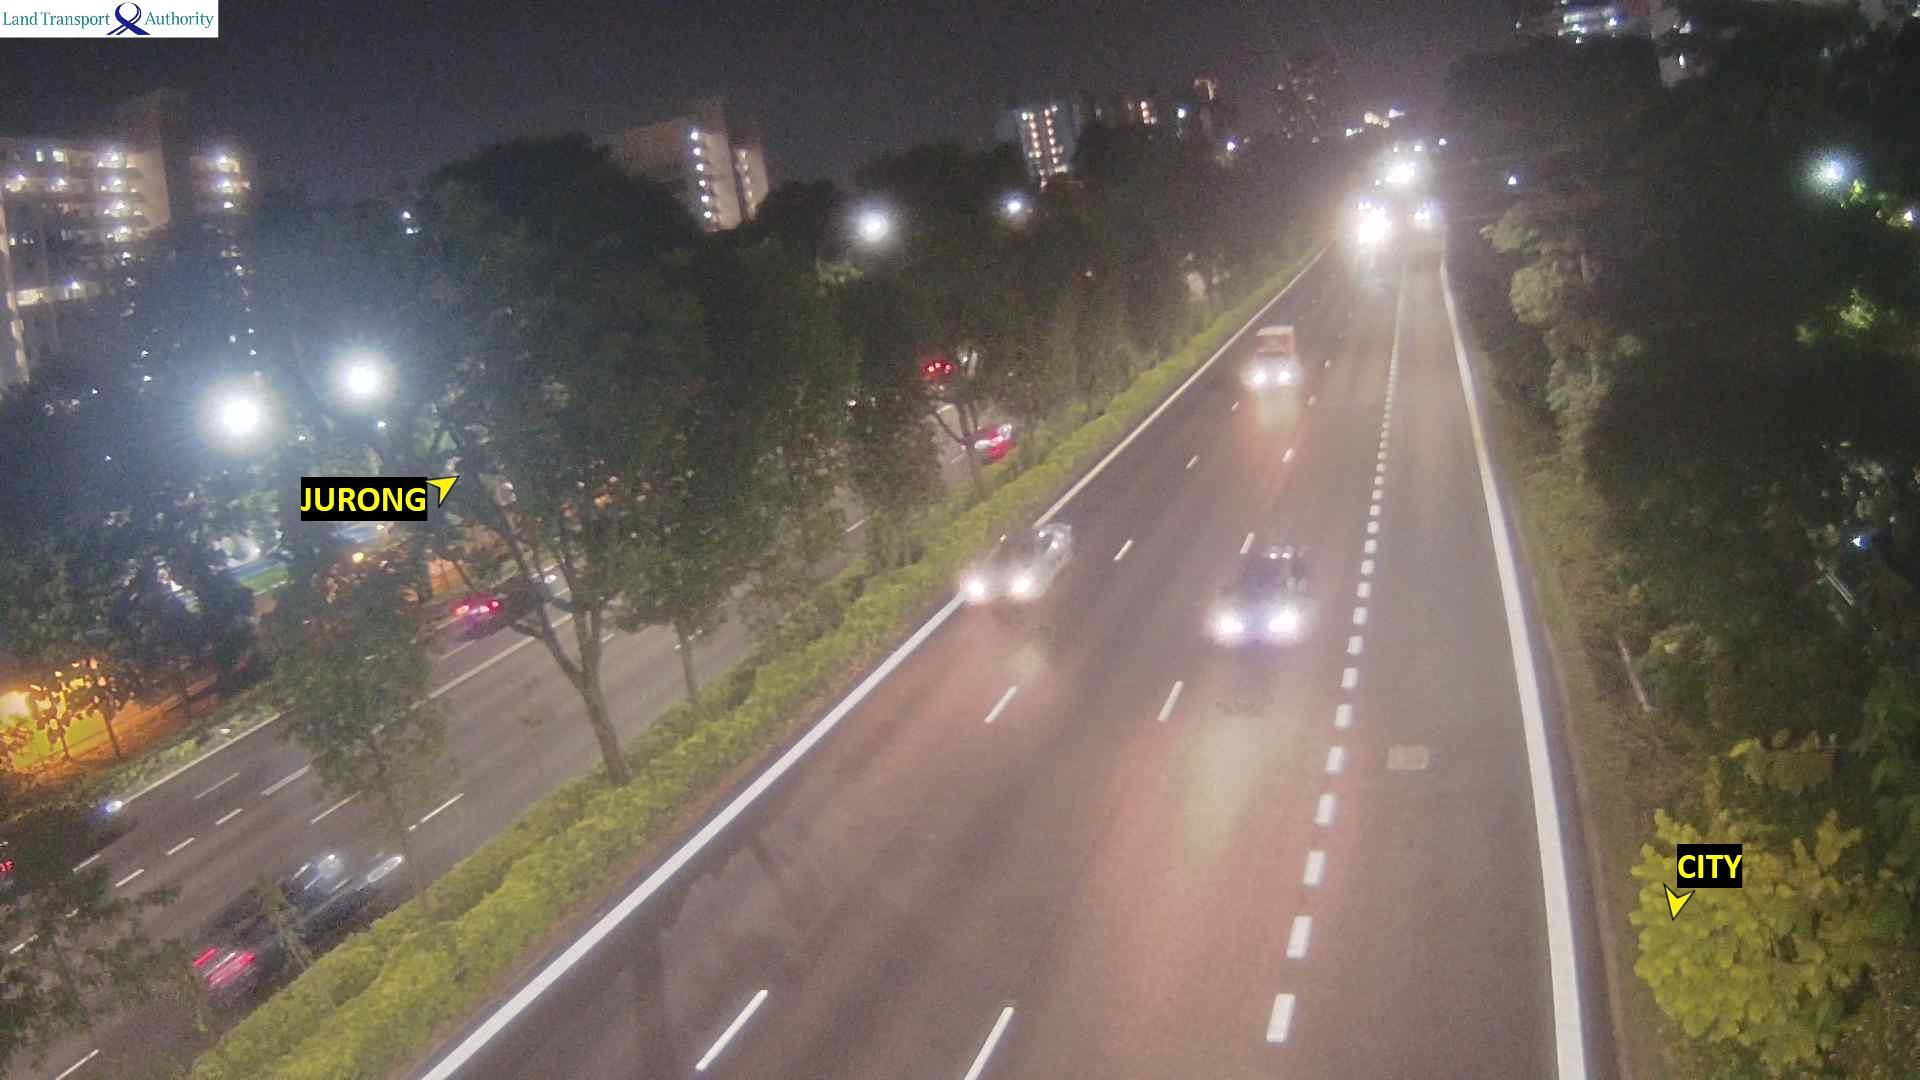cars: (170, 837, 415, 1011), (0, 783, 124, 885), (1204, 541, 1311, 647), (957, 520, 1075, 613), (451, 568, 541, 636), (960, 419, 1017, 463), (916, 348, 955, 389), (1411, 208, 1431, 222)
trucks: (1238, 323, 1303, 392)
